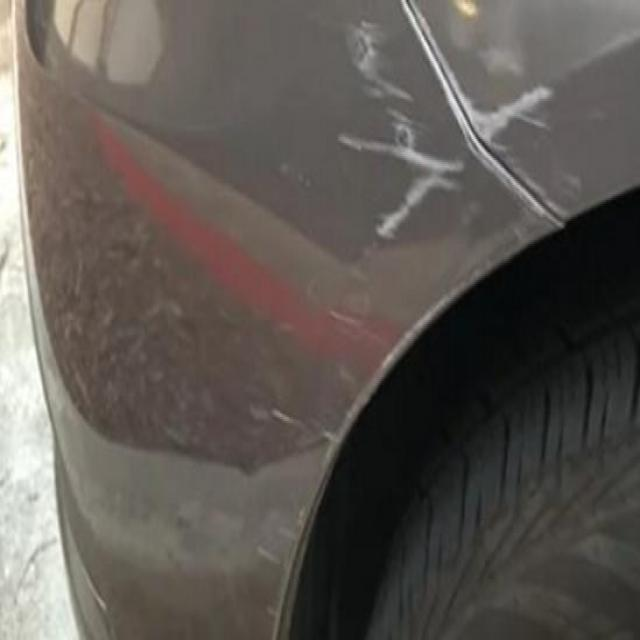scratch: (336, 28, 558, 252)
